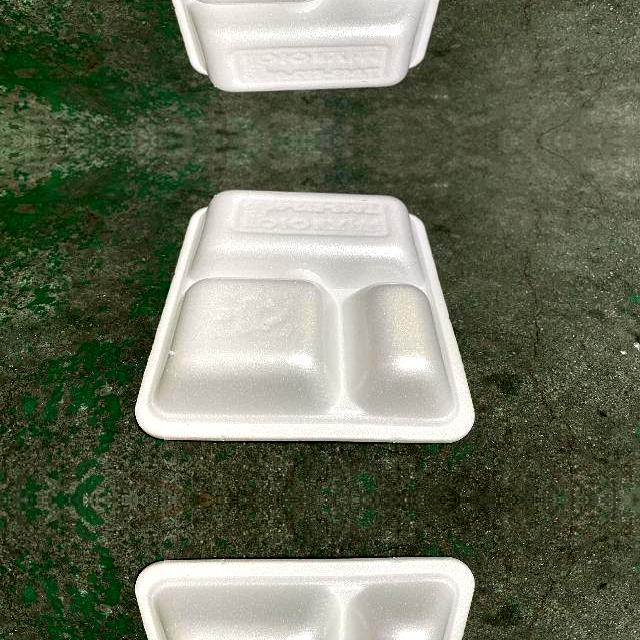Styrofoam: (135, 189, 474, 443), (136, 188, 474, 442), (135, 0, 474, 92), (135, 555, 474, 640), (135, 556, 474, 640), (172, 0, 439, 91)
